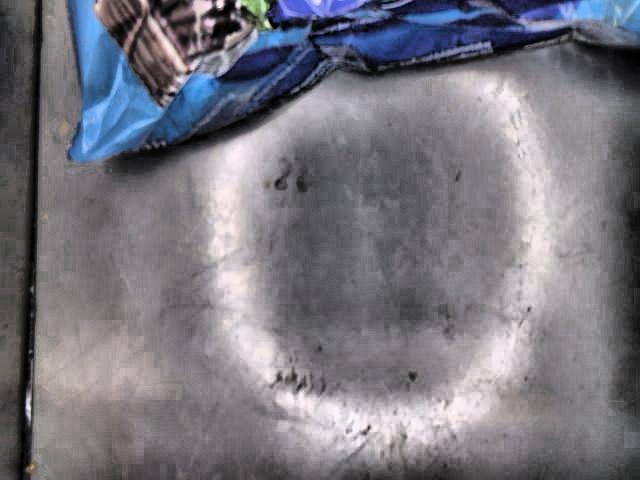Plastic: (66, 0, 640, 159)
